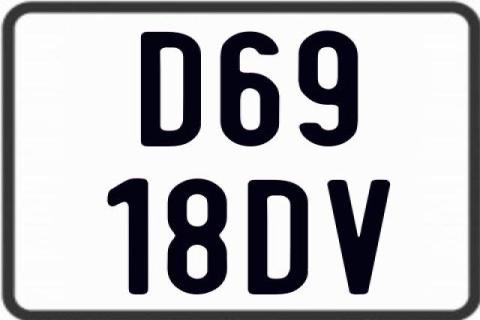0: (164, 178, 228, 298), (220, 29, 284, 145), (298, 28, 359, 148), (104, 179, 150, 299)
D: (245, 180, 305, 298), (140, 32, 200, 148)
V: (324, 177, 389, 293)
